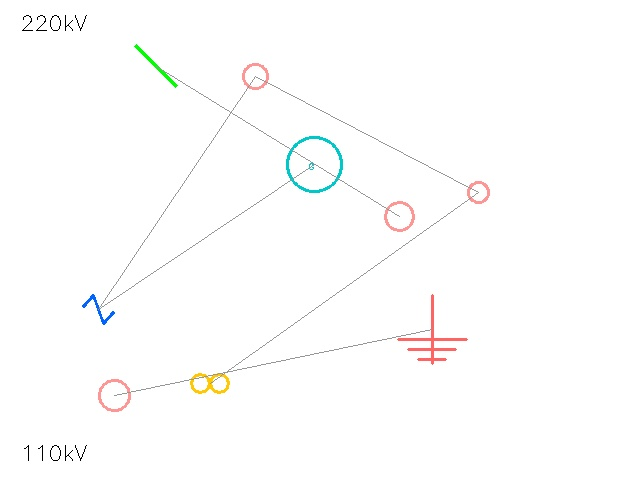busbar: (122, 32, 190, 100)
circuit_breaker: (83, 294, 113, 324)
feeder_terminal: (457, 171, 499, 213)
fuse: (370, 187, 428, 245)
generator: (287, 137, 341, 191)
ground: (398, 295, 466, 363)
load_break_switch: (83, 364, 145, 426)
transformer_2w: (187, 360, 233, 406)
voltage_transformer: (230, 51, 280, 101)
